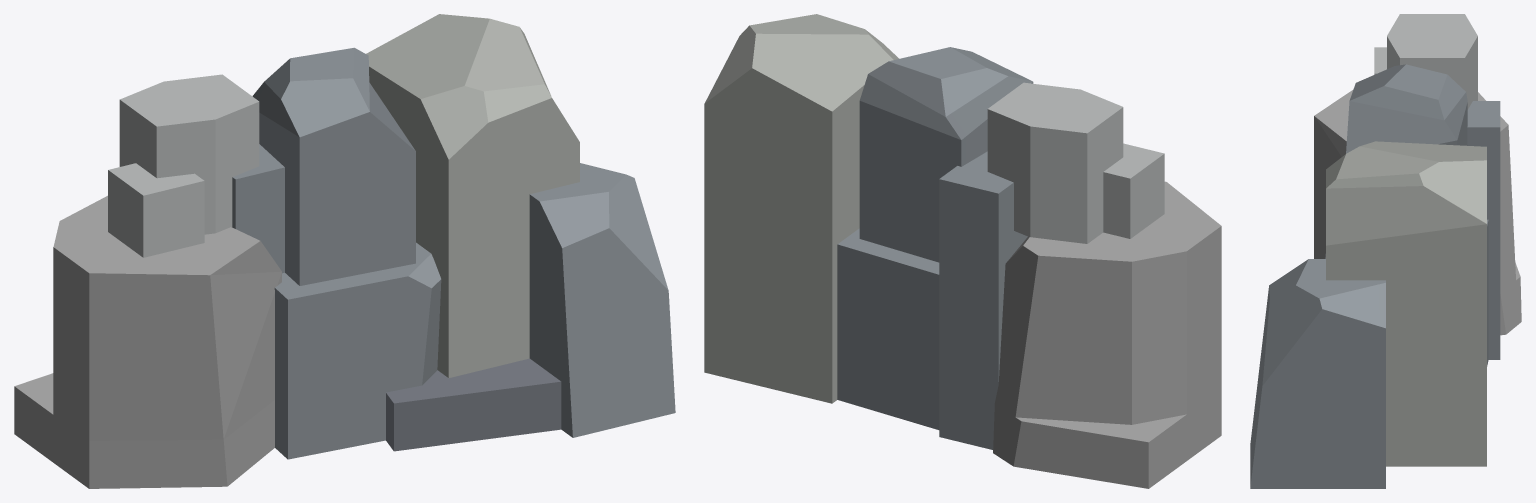
The model's file is Rock_Wall_06.fbx.
3 renders of one model, left to right at view 1: azimuth 30°, elevation 25°; view 2: azimuth 150°, elevation 25°; view 3: azimuth 270°, elevation 25°, orthographic. The views are drawn at different scales.
Parts seen in each view (by area): view 1: Rock_Wall_06; view 2: Rock_Wall_06; view 3: Rock_Wall_06.
Boxes of the visible parts, <box> form: Rock_Wall_06: <box>14,14,675,488</box>; Rock_Wall_06: <box>704,14,1221,488</box>; Rock_Wall_06: <box>1250,14,1521,488</box>.
Size of the model in its own units: 678 by 424 by 351.
